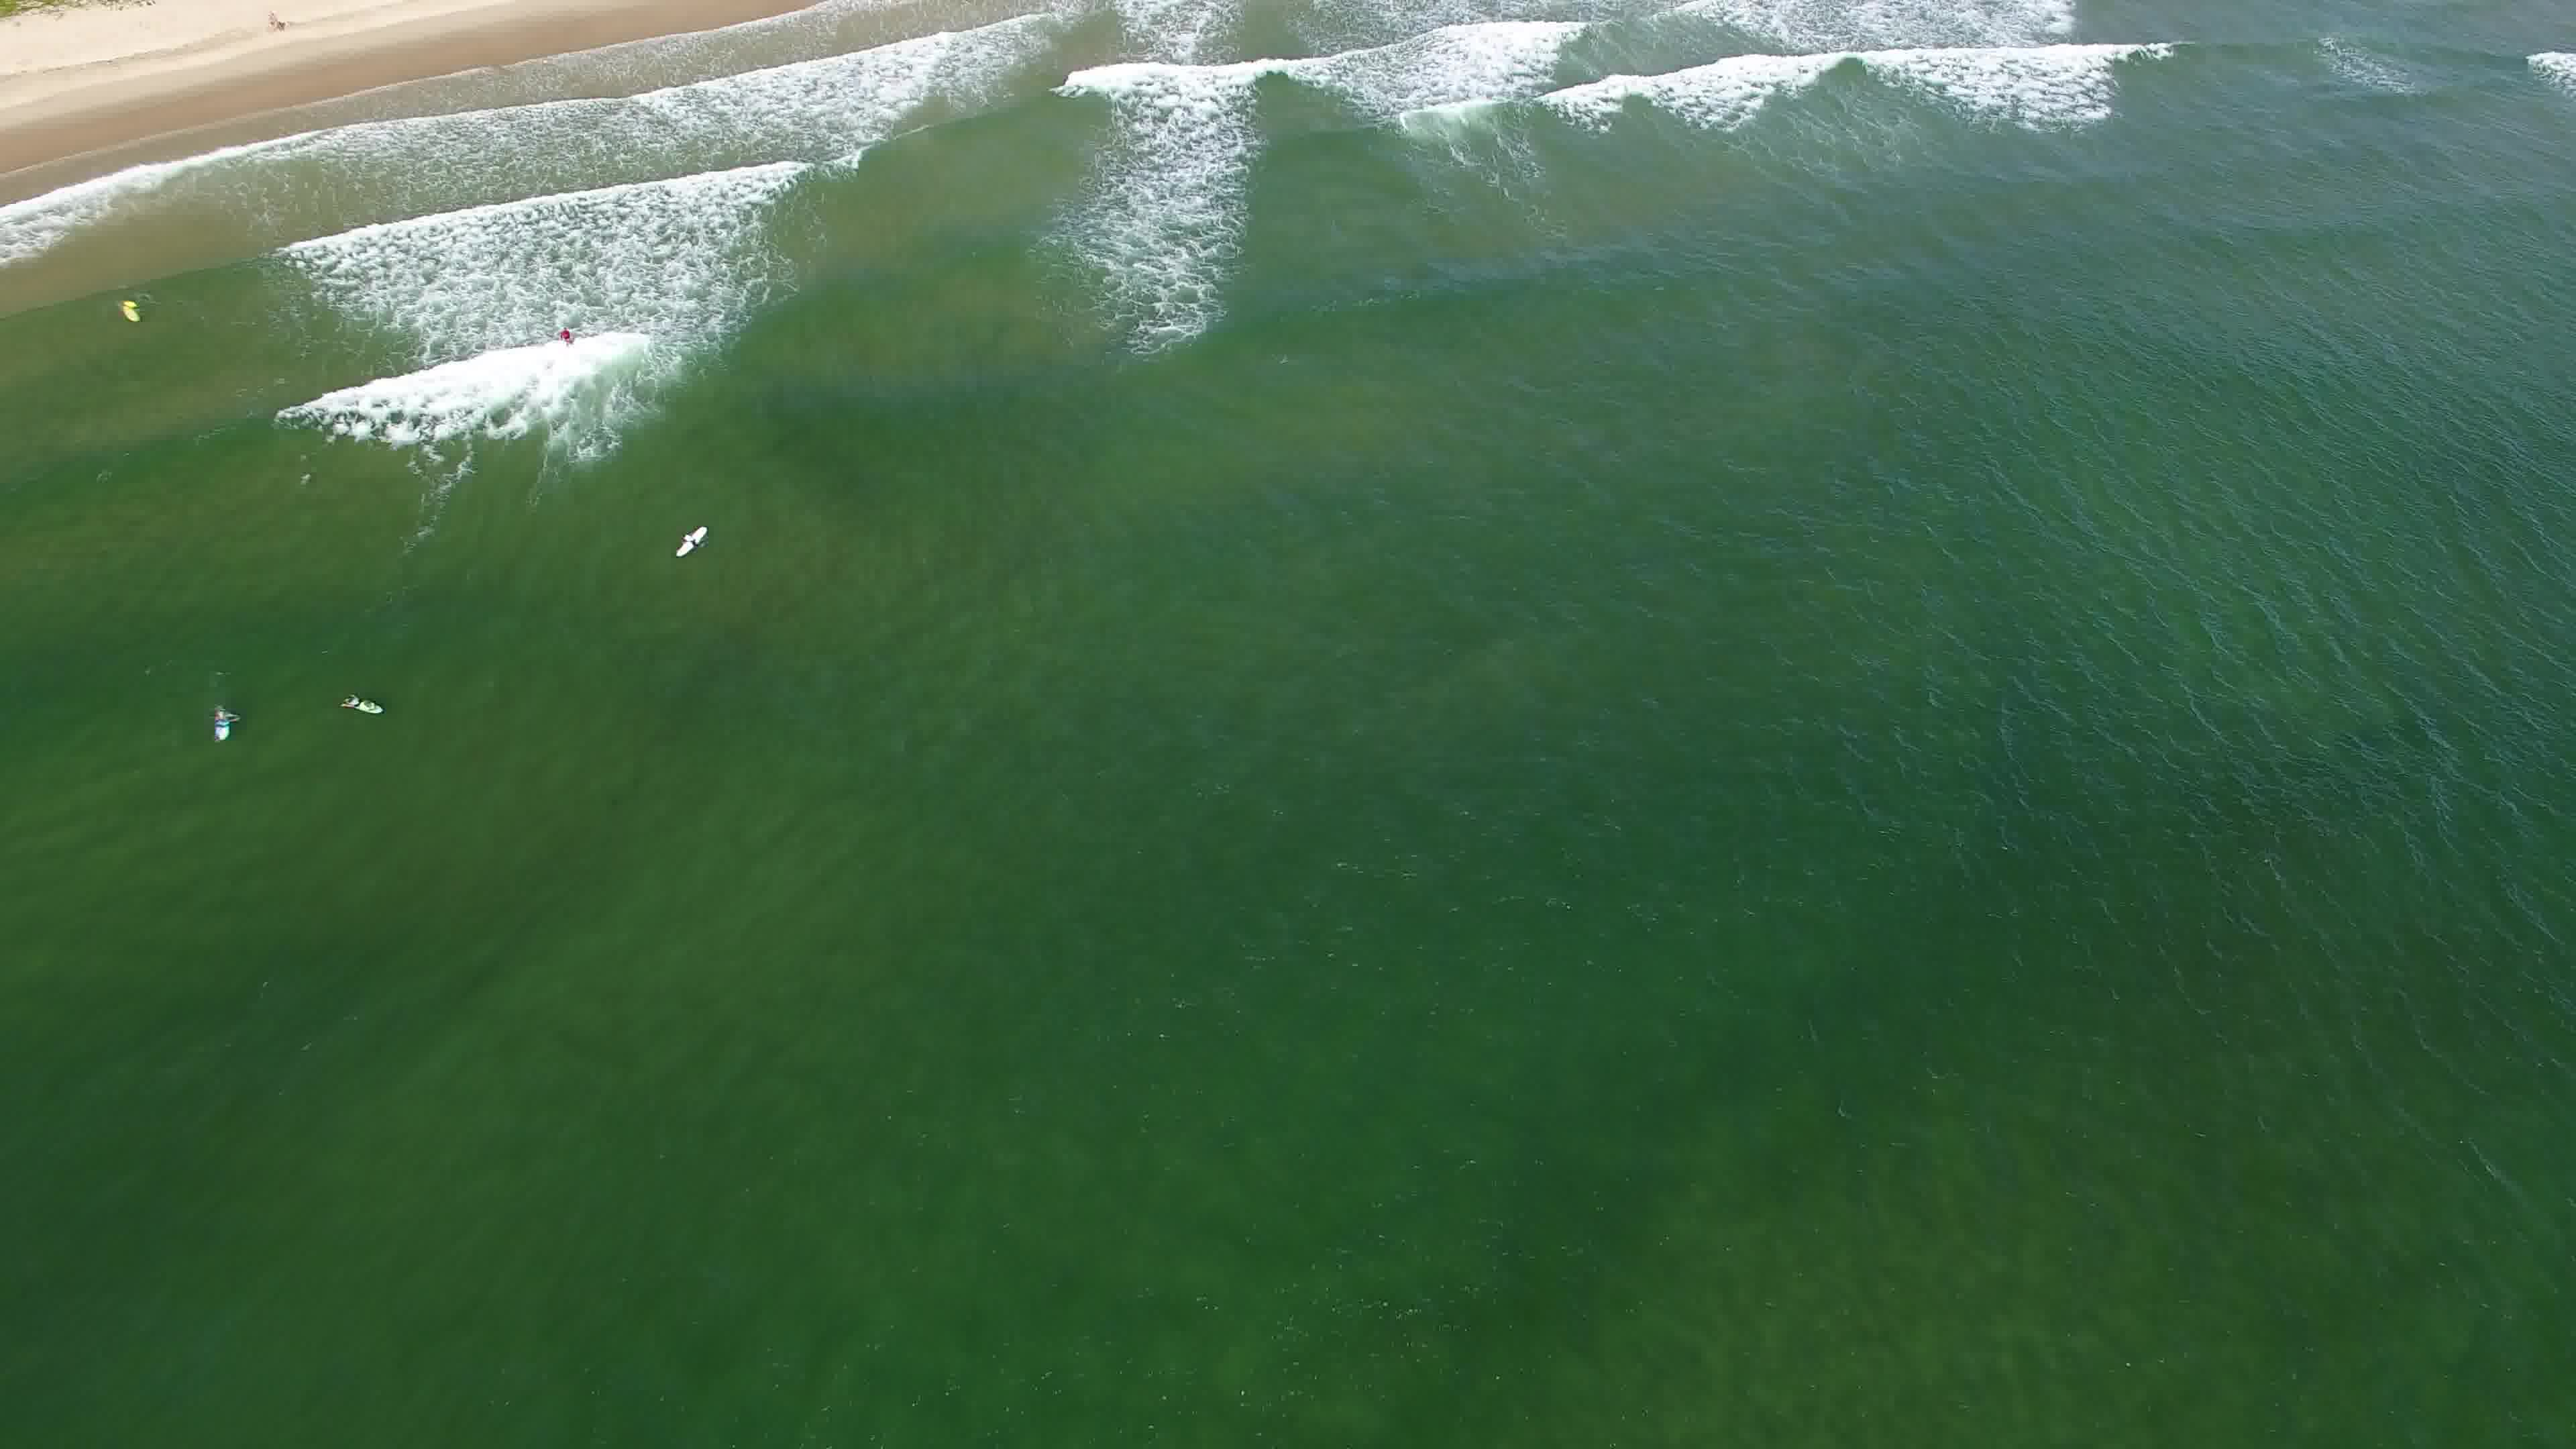surfer: (667, 513, 717, 566), (196, 695, 244, 748), (333, 686, 400, 722), (115, 294, 159, 338), (554, 318, 584, 356)
